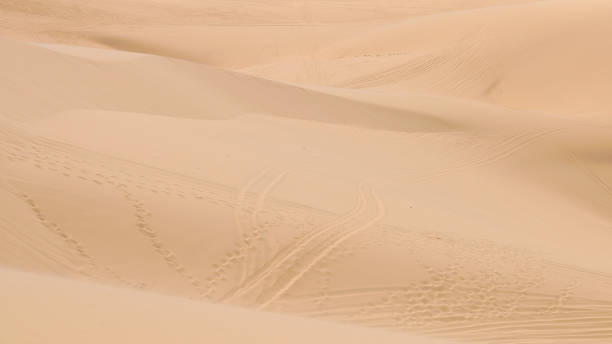animal_foot_print: (279, 231, 611, 342), (222, 184, 383, 306), (258, 183, 385, 307), (117, 183, 204, 294), (223, 168, 287, 283), (16, 191, 100, 277)
